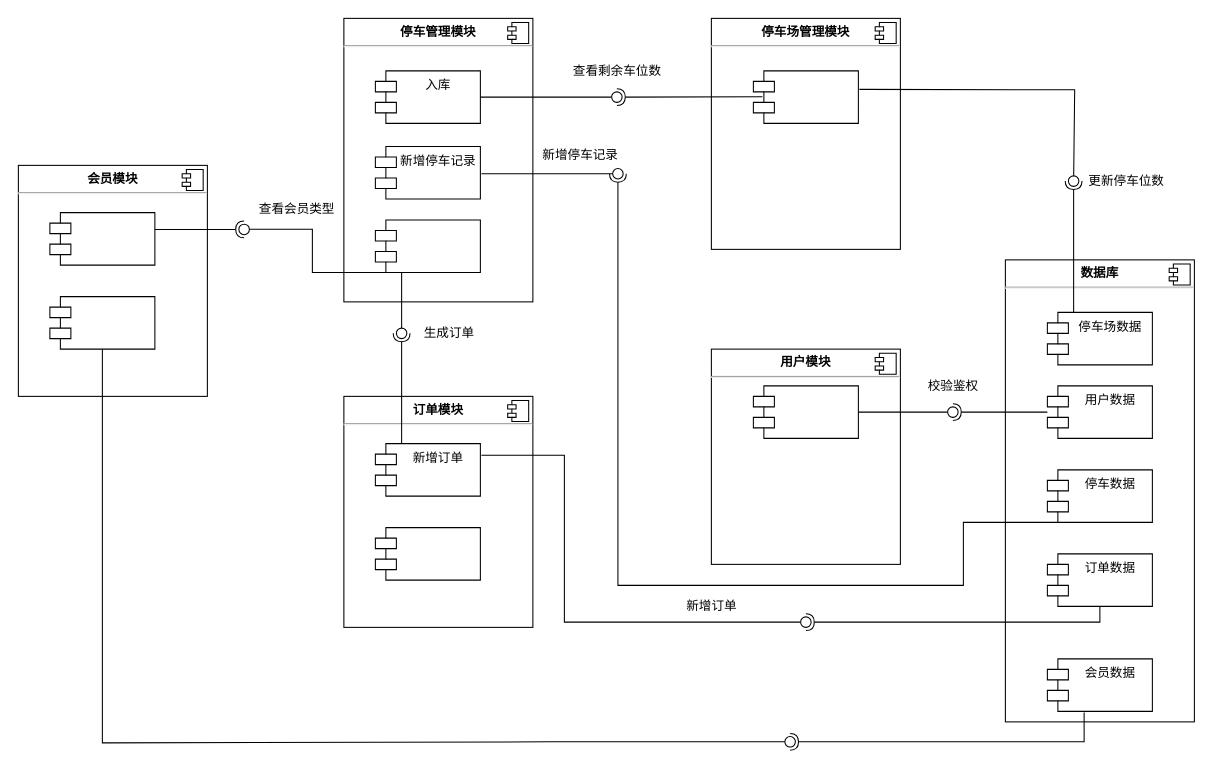
Some shapes in this 1213 by 769 pixel diagram are drawn without their labels. The centre of each missing label's shape, as x and y in pixels:
"修改订单" goes at point (427, 553).
"出库" goes at point (427, 245).
"新增会员" goes at point (102, 322).
"查询会员" goes at point (102, 238).
"用户登录" goes at point (805, 411).
"车位数管理" goes at point (805, 96).
